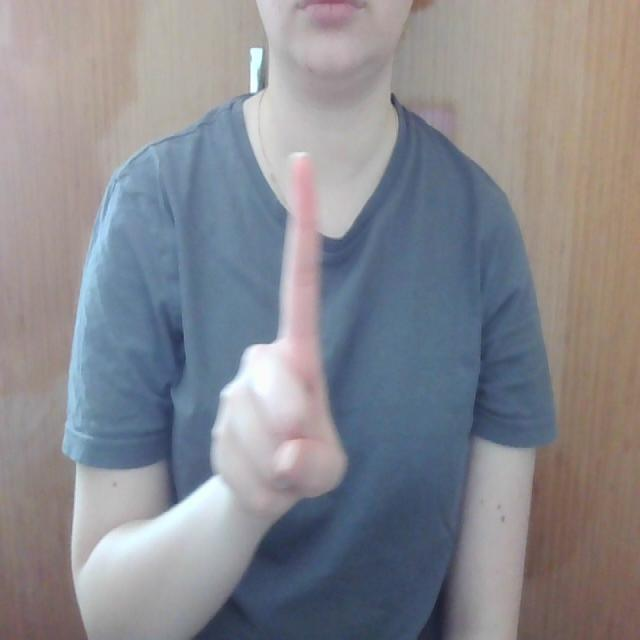Hayir: (206, 130, 363, 532)
